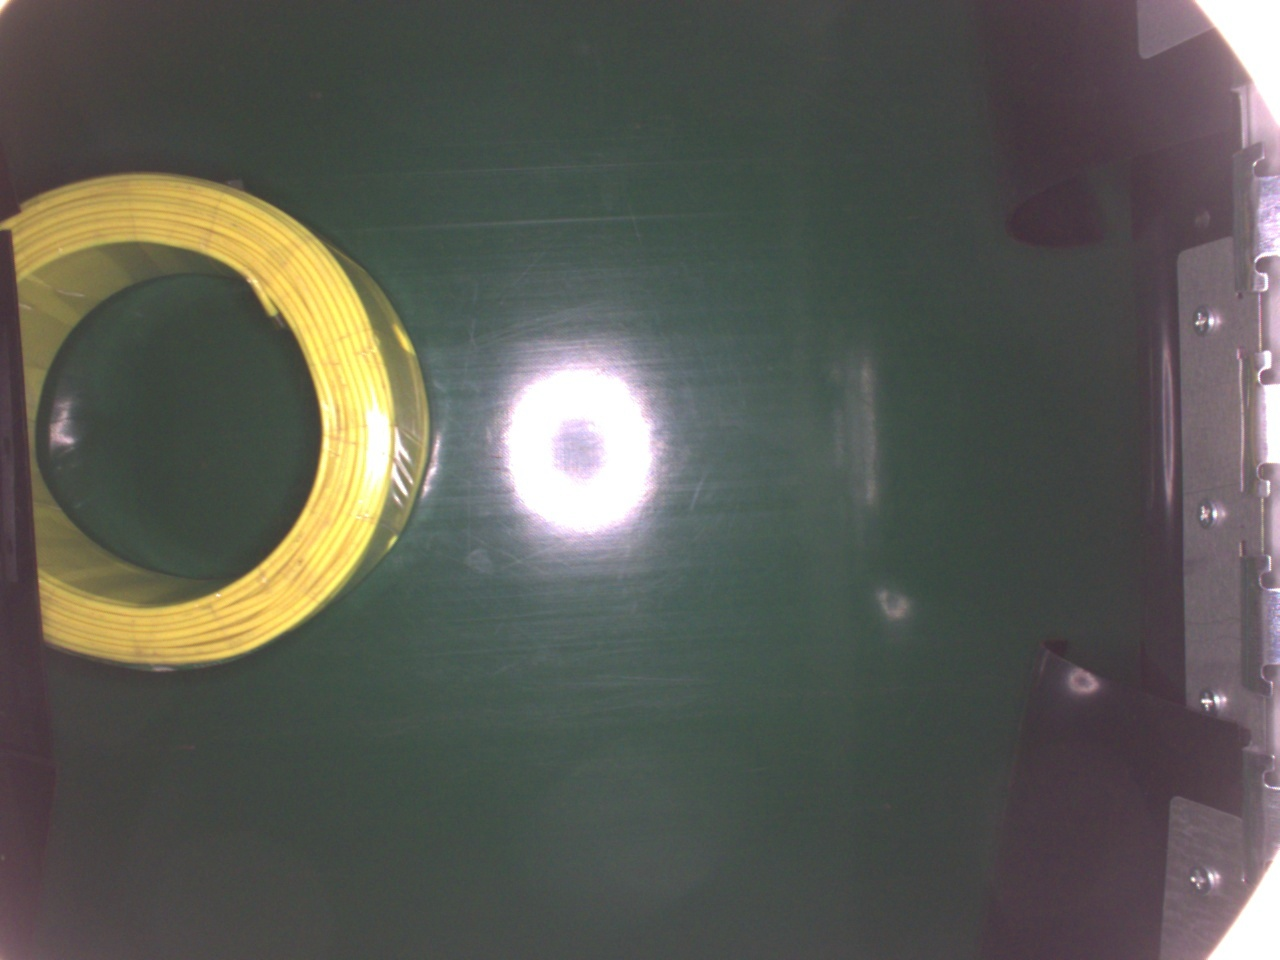yellow: (0, 167, 430, 672)
